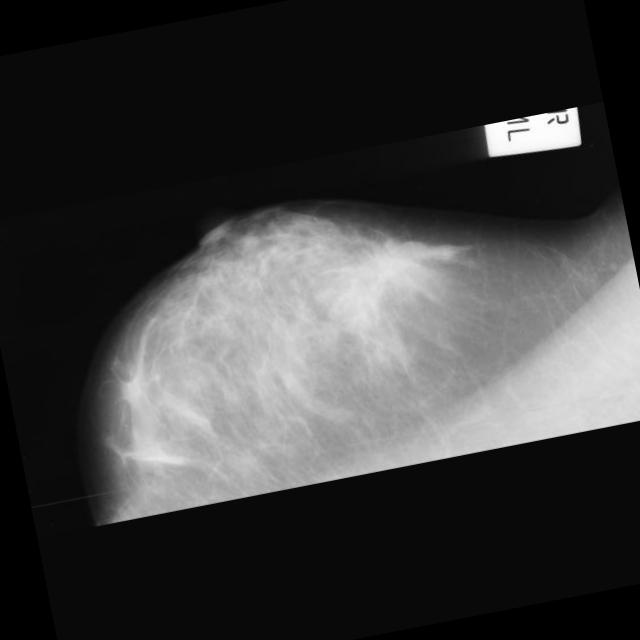SPIC: (306, 206, 443, 342)
